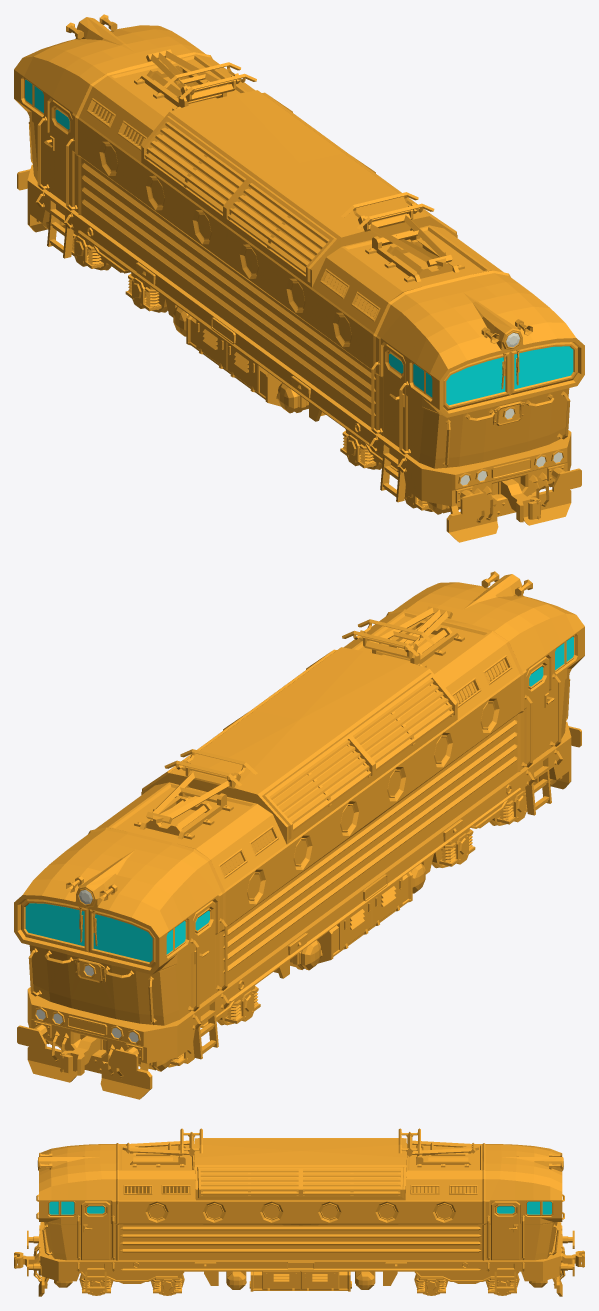
Rendered from SM_Train_Locomotive_Travel_A.fbx.
3 renders of one model, top to bottom at view 1: azimuth 30°, elevation 25°; view 2: azimuth 150°, elevation 25°; view 3: azimuth 270°, elevation 25°, orthographic. The views are drawn at different scales.
Parts seen in each view (by area): view 1: SM_Train_Locomotive_Travel_A_Base, SM_Train_Locomotive_Travel_A_Base_Chassis_B, SM_Train_Locomotive_Travel_A_Base_Chassis_F, SM_Train_Locomotive_Travel_A_Base_Joint_F; view 2: SM_Train_Locomotive_Travel_A_Base, SM_Train_Locomotive_Travel_A_Base_Chassis_F, SM_Train_Locomotive_Travel_A_Base_Chassis_B, SM_Train_Locomotive_Travel_A_Base_Joint_B; view 3: SM_Train_Locomotive_Travel_A_Base, SM_Train_Locomotive_Travel_A_Base_Chassis_F, SM_Train_Locomotive_Travel_A_Base_Chassis_B, SM_Train_Locomotive_Travel_A_Base_Joint_F, SM_Train_Locomotive_Travel_A_Base_Joint_B.
Part boxes in pixels (x1,y1,x2,y2): SM_Train_Locomotive_Travel_A_Base: (14, 14, 584, 542); SM_Train_Locomotive_Travel_A_Base_Chassis_B: (71, 231, 161, 311); SM_Train_Locomotive_Travel_A_Base_Chassis_F: (340, 429, 429, 510); SM_Train_Locomotive_Travel_A_Base_Joint_F: (498, 479, 540, 522); SM_Train_Locomotive_Travel_A_Base: (14, 571, 584, 1099); SM_Train_Locomotive_Travel_A_Base_Chassis_F: (439, 787, 527, 866); SM_Train_Locomotive_Travel_A_Base_Chassis_B: (170, 985, 260, 1065); SM_Train_Locomotive_Travel_A_Base_Joint_B: (60, 1036, 102, 1075); SM_Train_Locomotive_Travel_A_Base: (27, 1128, 574, 1296); SM_Train_Locomotive_Travel_A_Base_Chassis_F: (80, 1271, 184, 1295); SM_Train_Locomotive_Travel_A_Base_Chassis_B: (414, 1271, 519, 1295); SM_Train_Locomotive_Travel_A_Base_Joint_F: (14, 1252, 39, 1268); SM_Train_Locomotive_Travel_A_Base_Joint_B: (562, 1250, 584, 1267).
Bounding box in the file's own units: 3.32 × 4.61 × 16.1.
